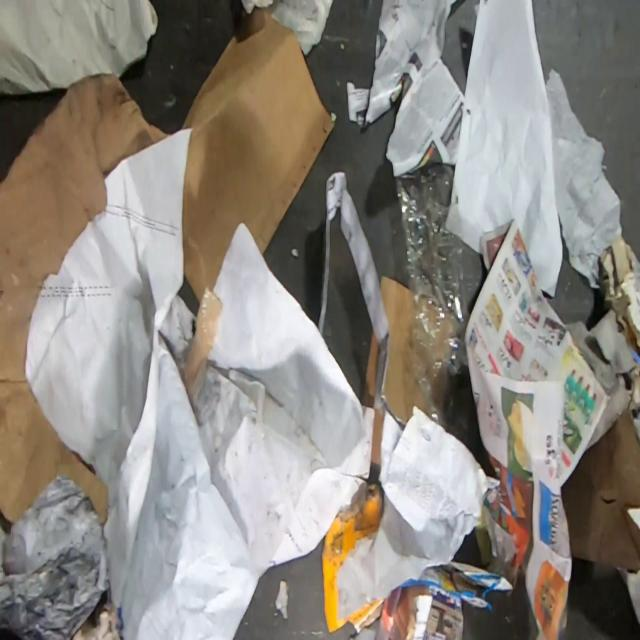cardboard: (0, 72, 172, 527), (180, 5, 335, 304), (560, 407, 640, 574), (376, 559, 514, 640), (320, 480, 384, 634), (379, 273, 428, 422), (598, 234, 640, 358), (360, 327, 380, 409), (370, 409, 383, 468)
soft_plastic: (396, 162, 483, 447)
